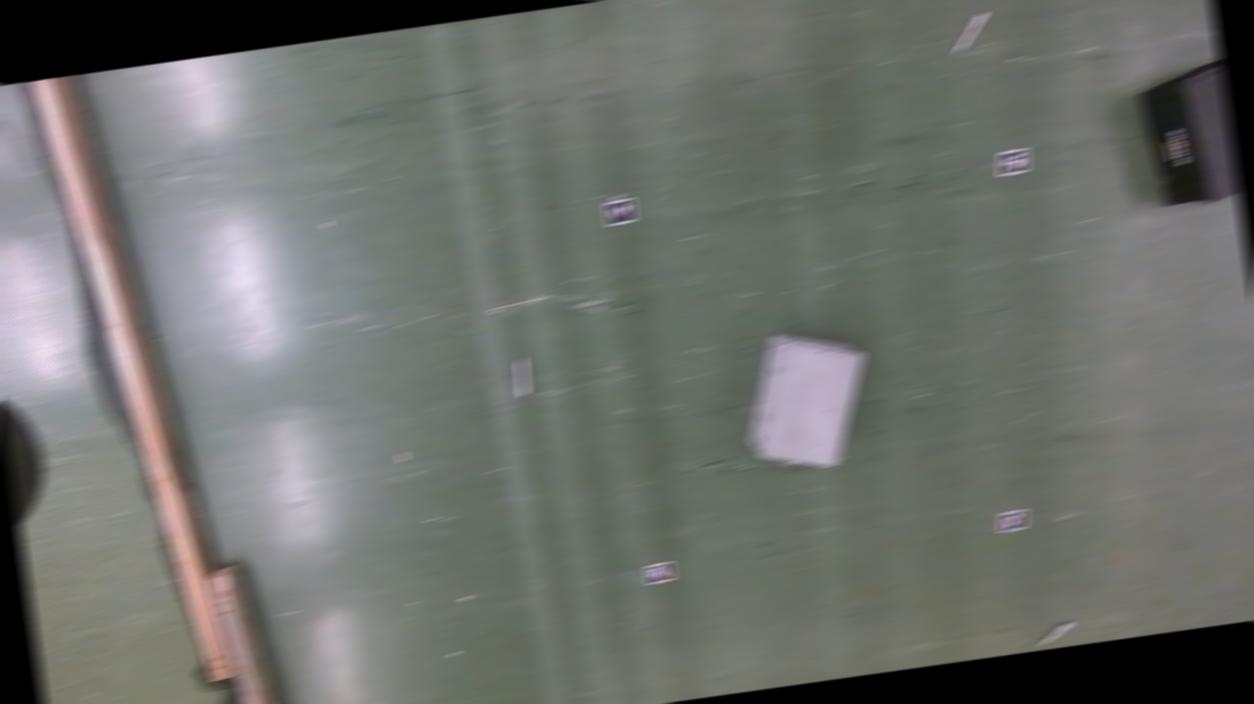probes: (949, 12, 988, 51), (1036, 620, 1072, 644), (510, 356, 530, 395)
rako: (733, 320, 879, 475), (1135, 60, 1241, 208)
